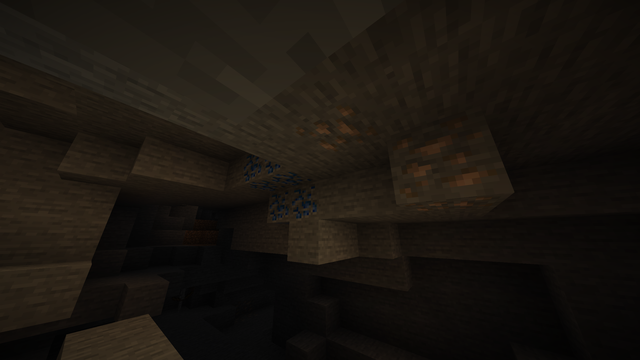iron: (298, 97, 513, 211)
lapis: (240, 149, 316, 222)
